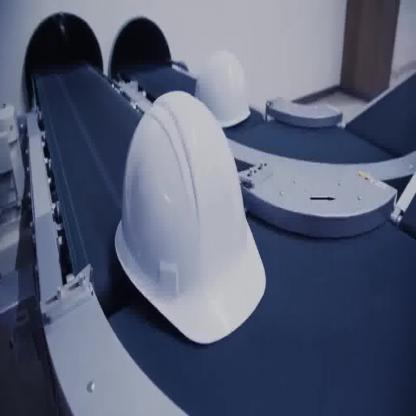helmet: (113, 88, 268, 348), (196, 48, 252, 132)
